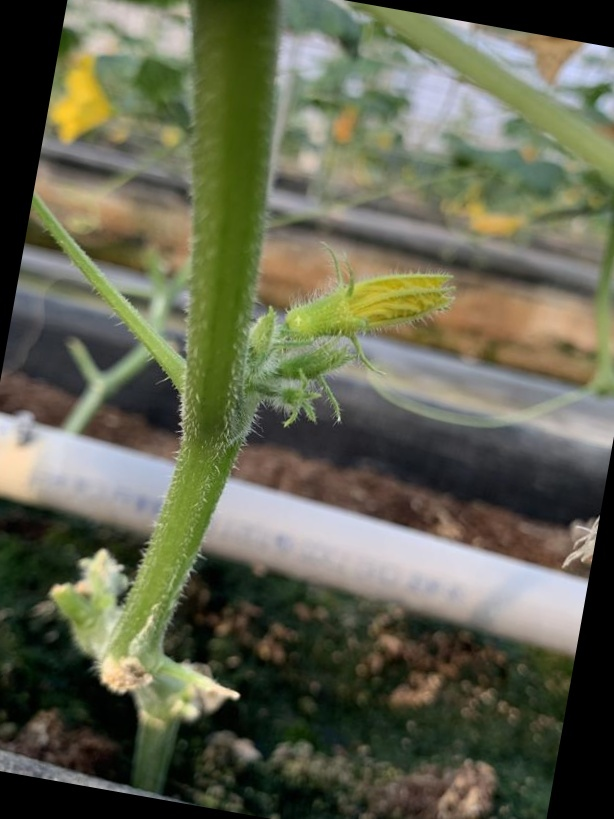bud: (283, 238, 461, 374)
